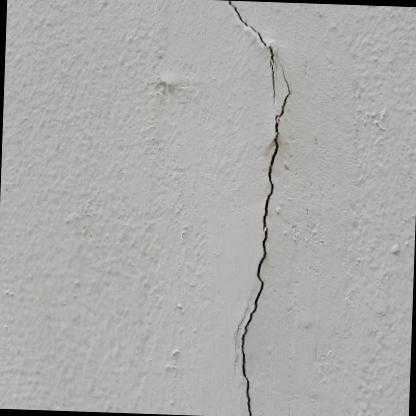crack: (241, 60, 292, 416), (229, 1, 277, 116)
